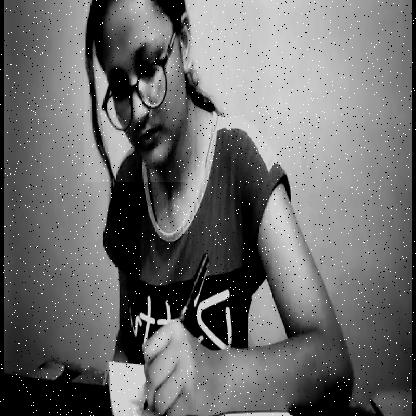Distracted: (84, 0, 194, 182)
